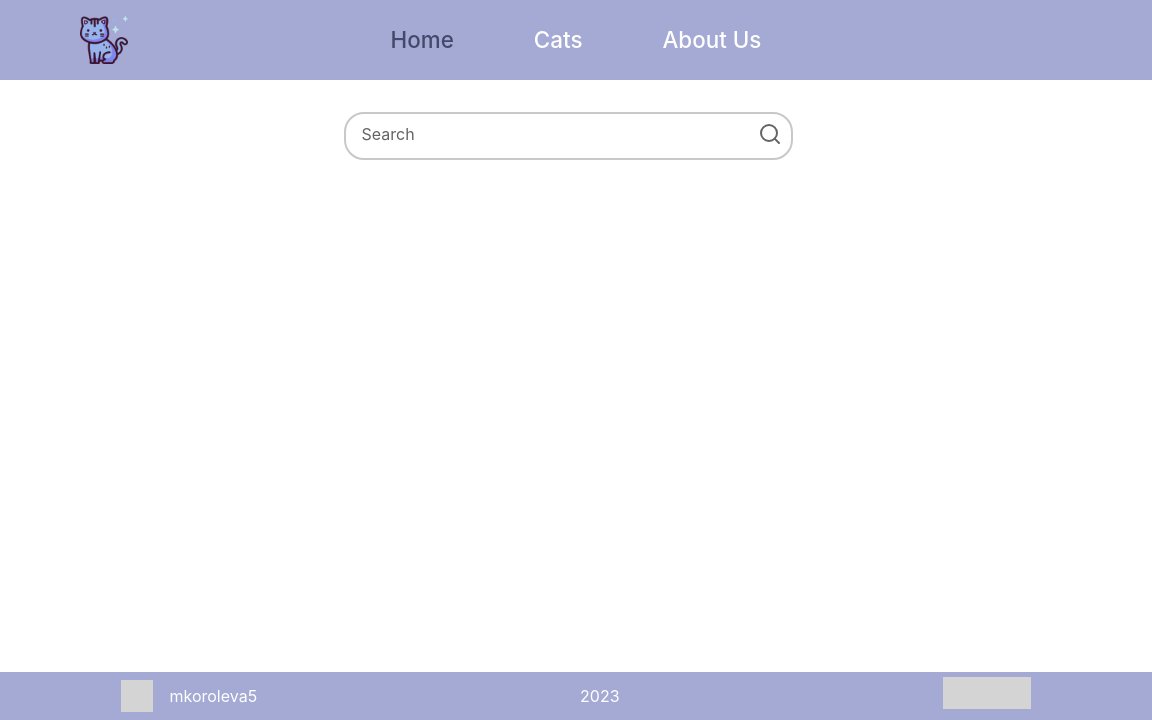
Test: Pages tests › checks if cats link works
Click the link "Cats": (559, 40) x1=534 y1=23 x2=583 y2=57
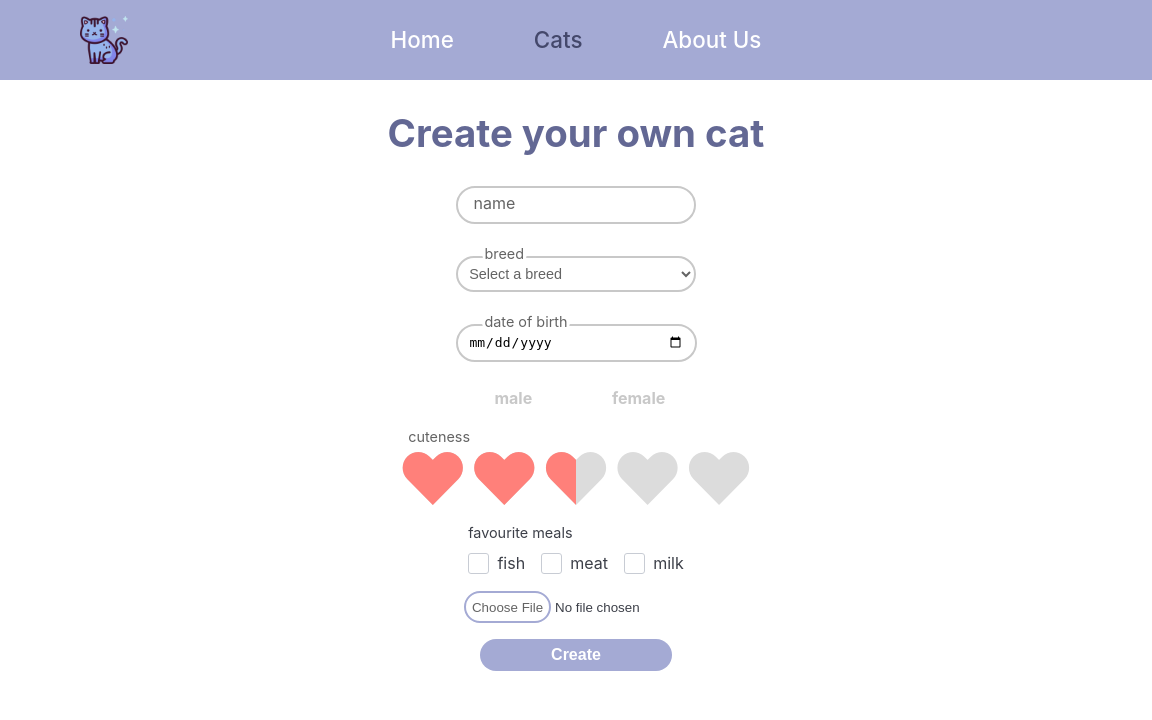
Check: the heading "Create your own cat" is shown, box x1=388 y1=112 x2=764 y2=154
